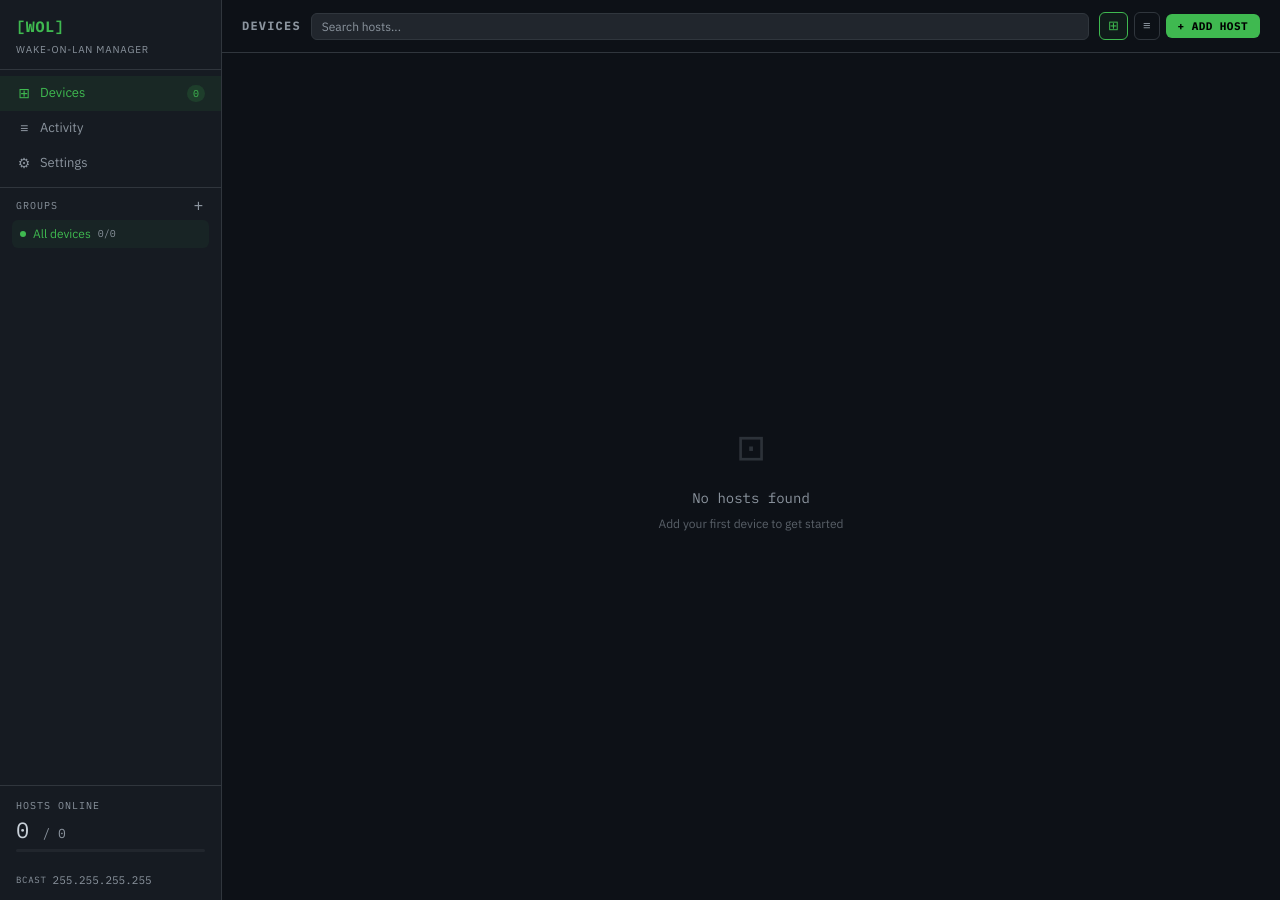
Test case: App › addDevice › disables submit button when name or mac is empty
This screenshot has width=1280, height=900.
Click the button "+ ADD HOST" at point(1213, 26), box [1166,14,1260,38]
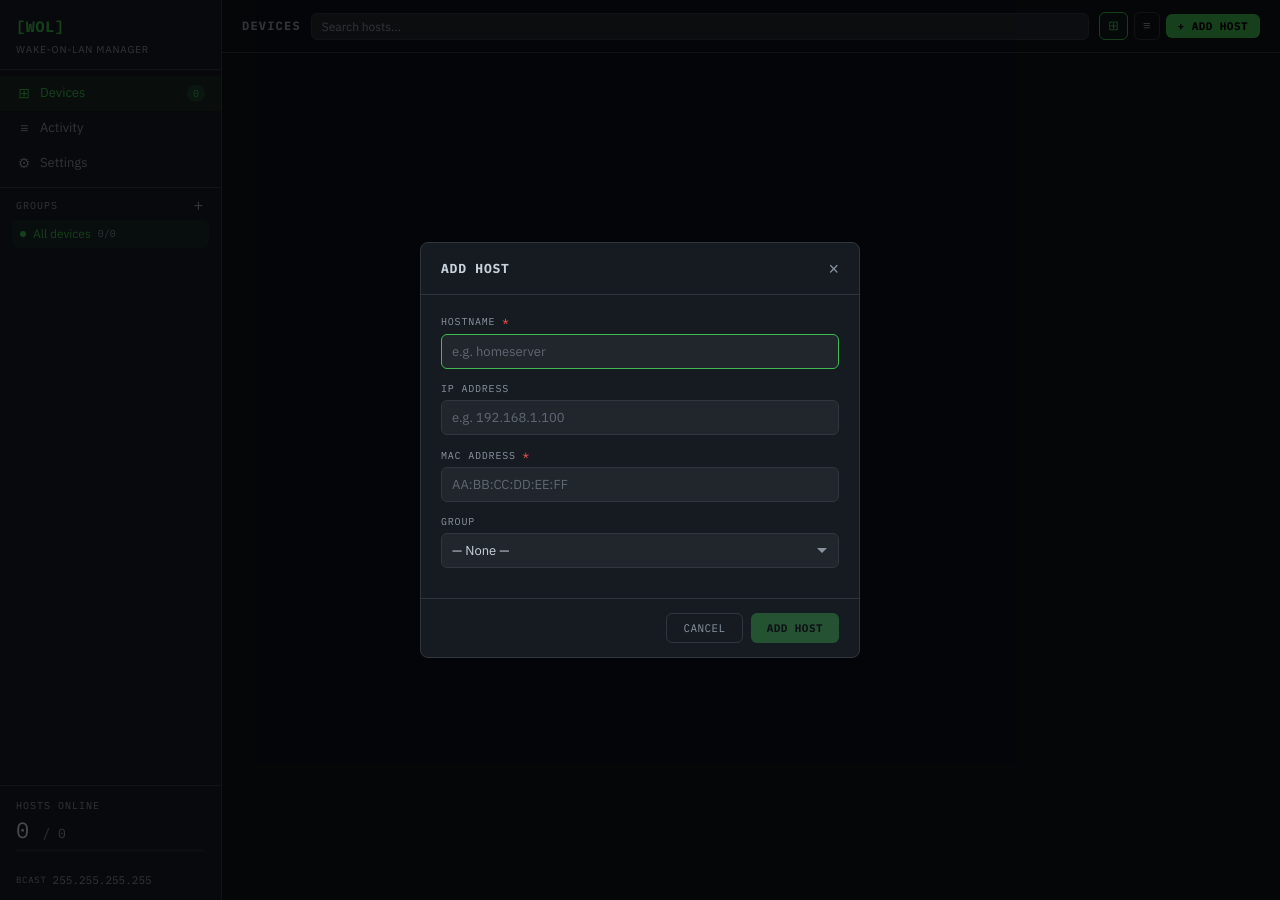
expect the button "ADD HOST" is disabled: met, box [751,613,839,643]
